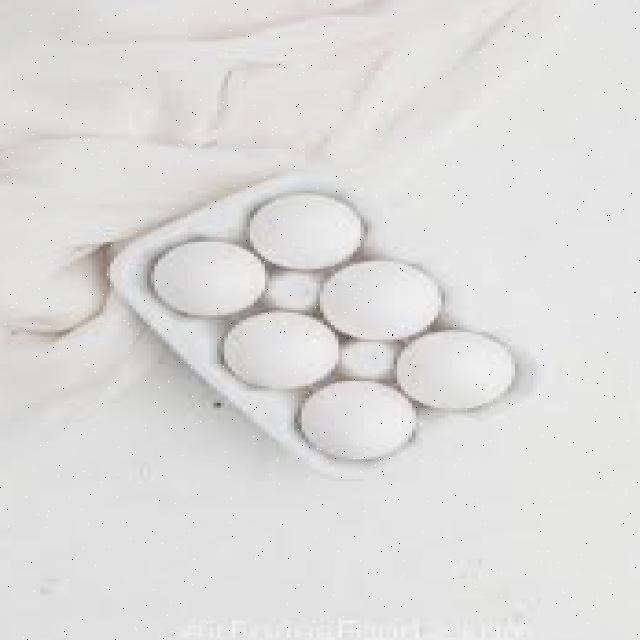White Egg: (385, 318, 535, 416), (229, 196, 396, 272), (287, 257, 428, 346), (145, 236, 278, 321), (198, 312, 332, 390), (301, 386, 412, 460)
